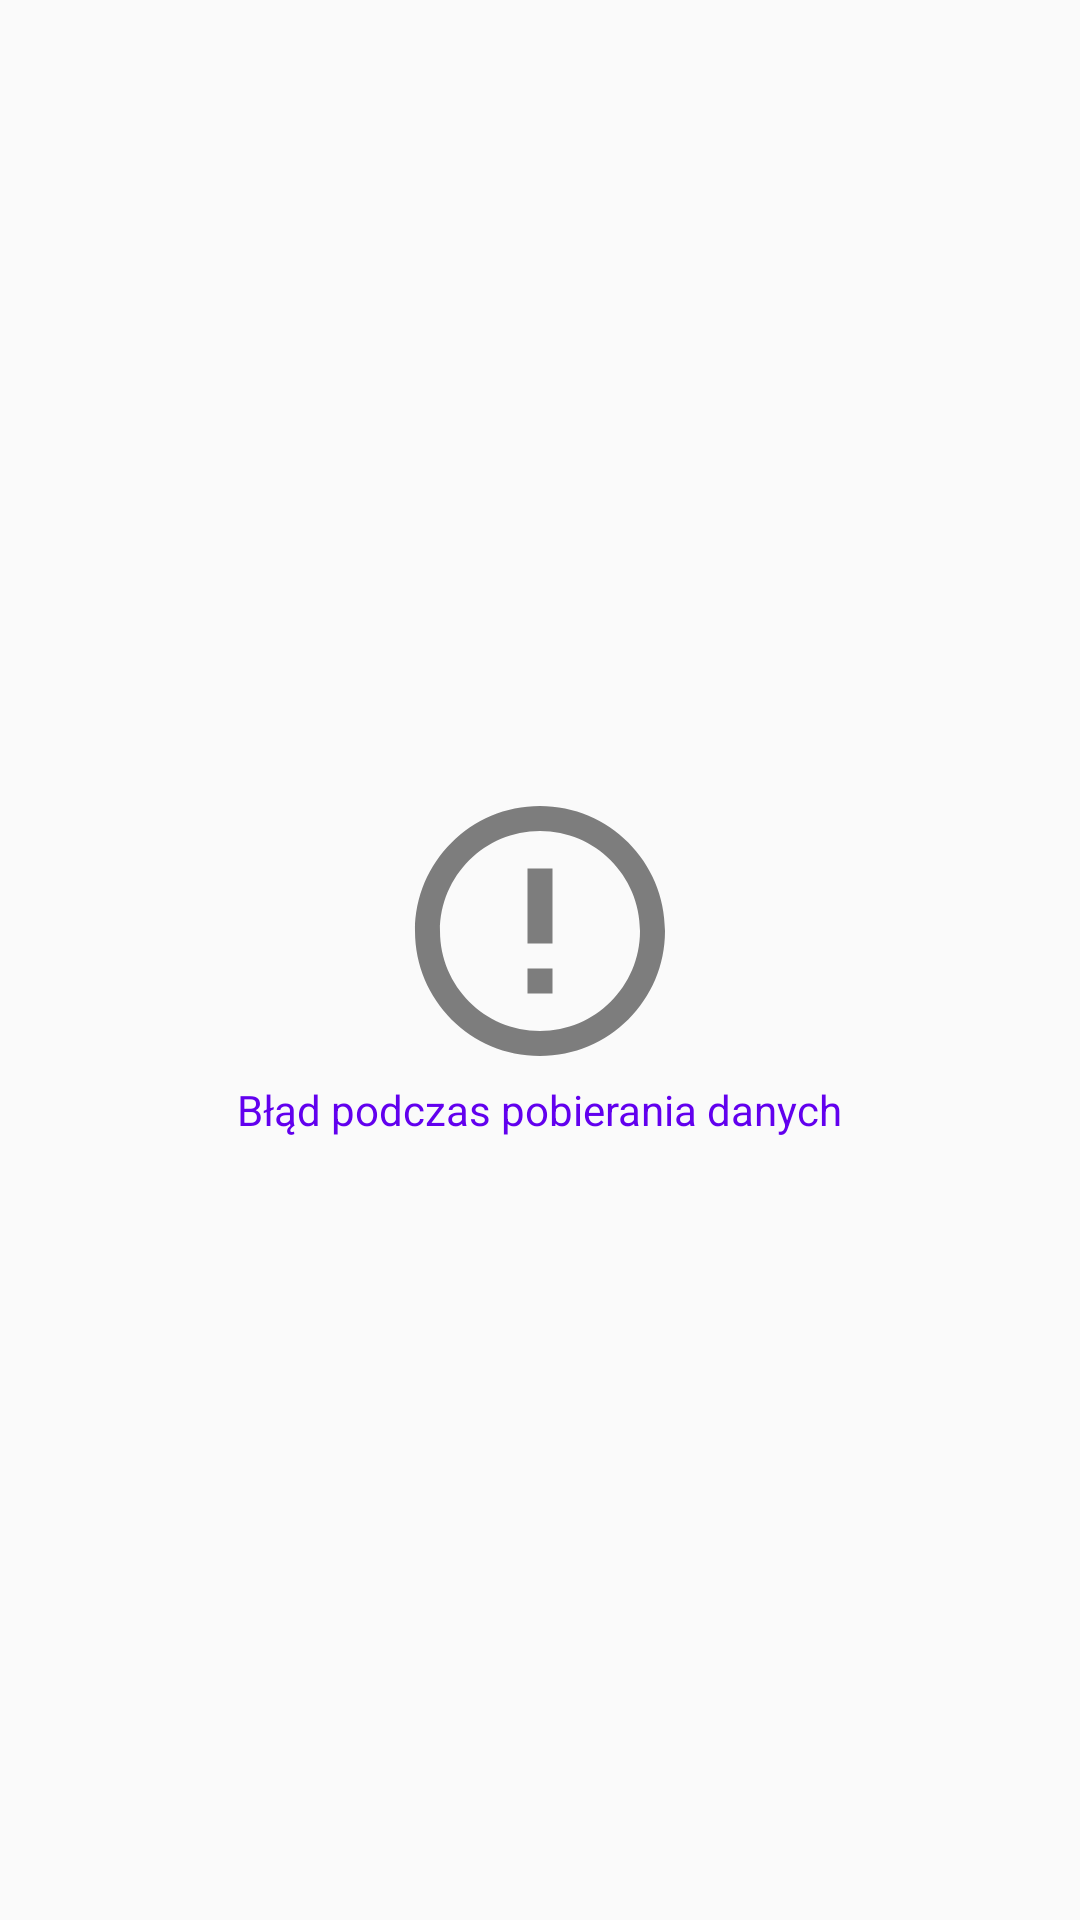

Point at icon controls on the screen. Image size 1080*1920, points as point (x, y).
error: point (540, 931)
